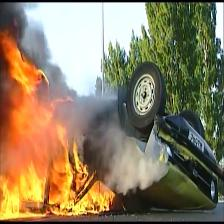fire: (0, 28, 121, 224)
smoke: (80, 84, 202, 201), (1, 2, 99, 99)
